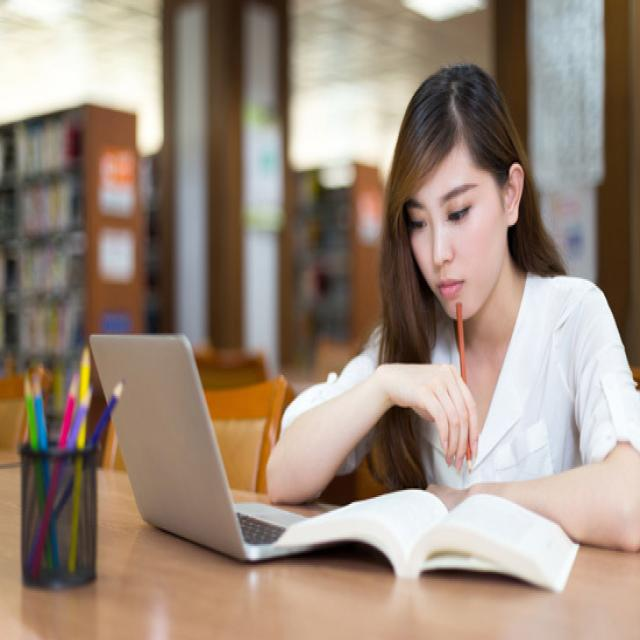studying-person: (260, 47, 640, 592)
